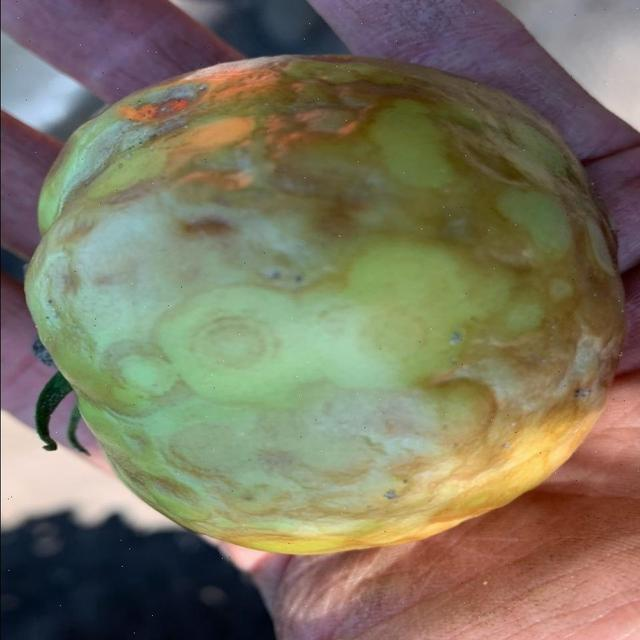Spotted wilt Virus Fruit: (9, 108, 44, 350)
